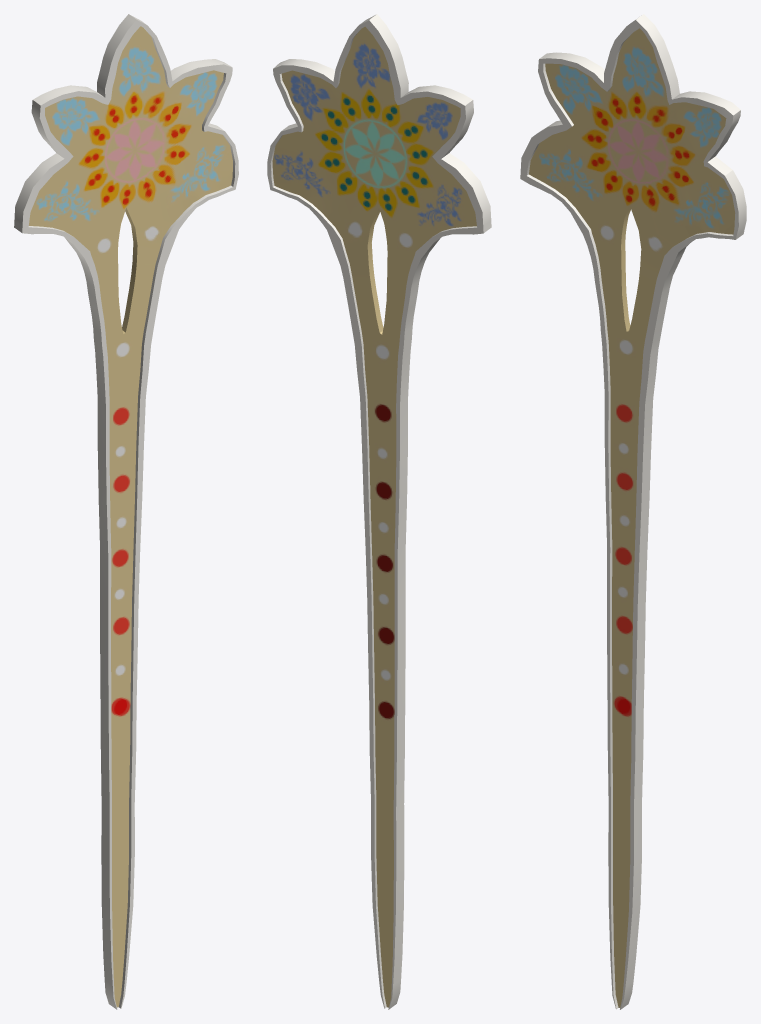
File: FBX-DTS-Model3G-HairPin-A.fbx
The picture shows the model from 3 angles, left to right: view 1: azimuth 30°, elevation 25°; view 2: azimuth 150°, elevation 25°; view 3: azimuth 330°, elevation 25°; orthographic projection.
Visible parts, largest first — view 1: Model3G_HairPin_A; view 2: Model3G_HairPin_A; view 3: Model3G_HairPin_A.
Boxes of the visible parts, box(x1,y1,x2,y2) form: Model3G_HairPin_A: box(14, 14, 238, 1009); Model3G_HairPin_A: box(267, 14, 491, 1009); Model3G_HairPin_A: box(520, 14, 746, 1009).
Bounding box in the file's own units: 411 × 1786 × 28.58.
